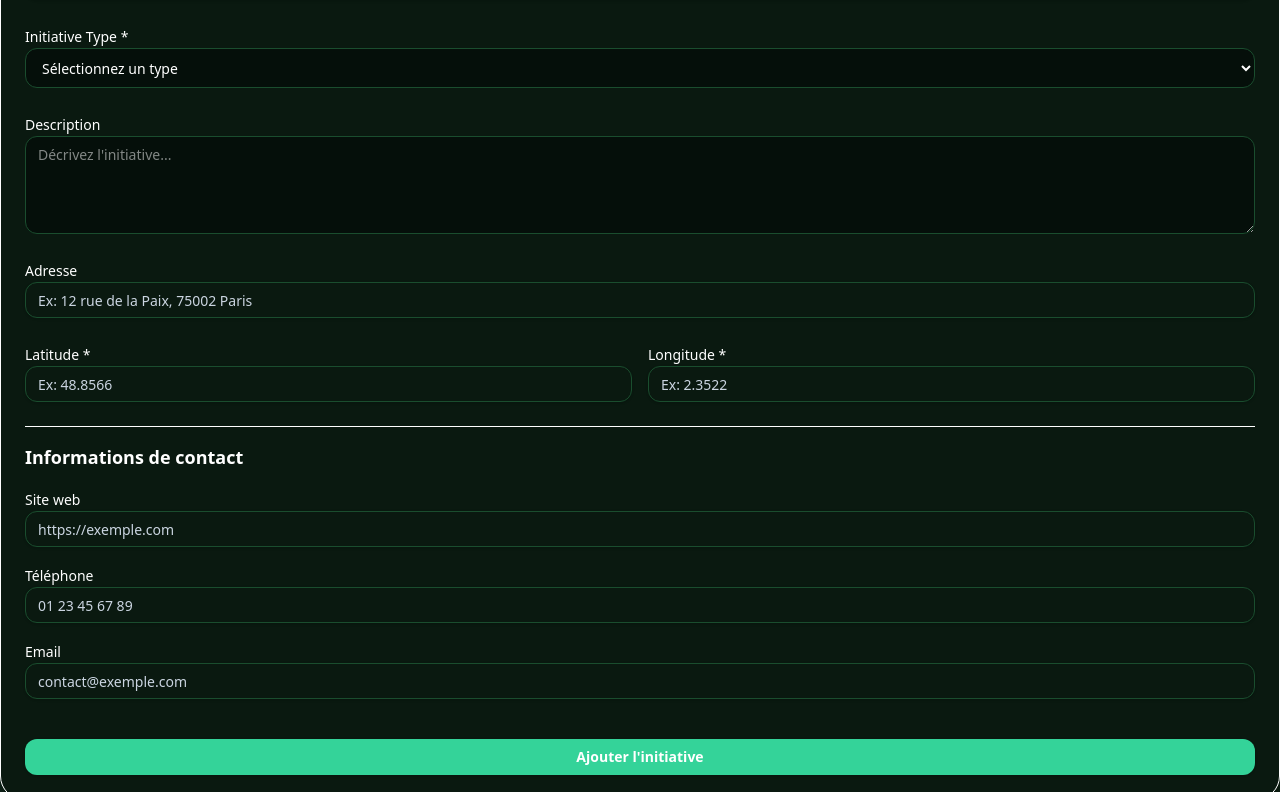
Test: AddInitiativeForm › should show validation error for missing required fields
(page scrolled)
What coordinates should you click on to do the following:
click the button "Ajouter l'initiative"
I would click on:
 (640, 757)
Its box is [25,739,1255,775].
(page scrolled)
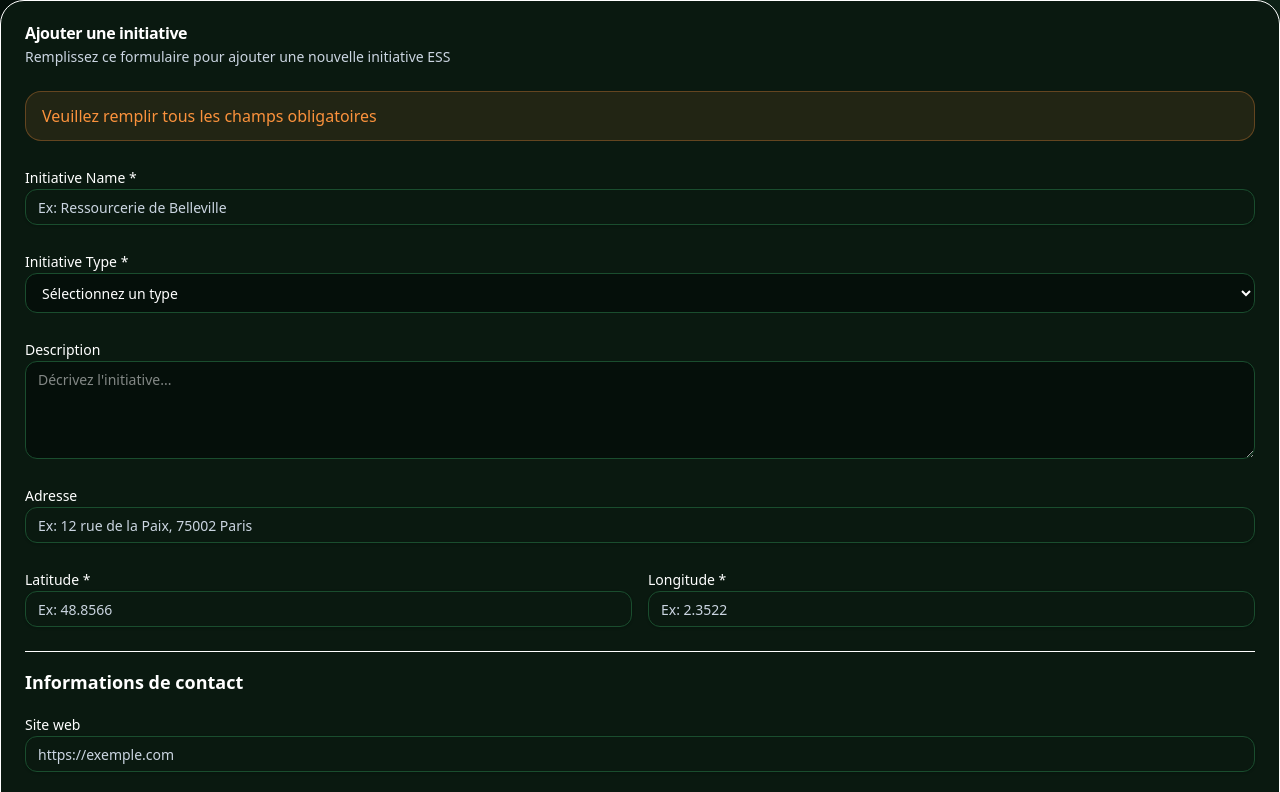
Result: the text "Veuillez remplir tous les champs obligatoires" is shown at [25,91,1255,141]
